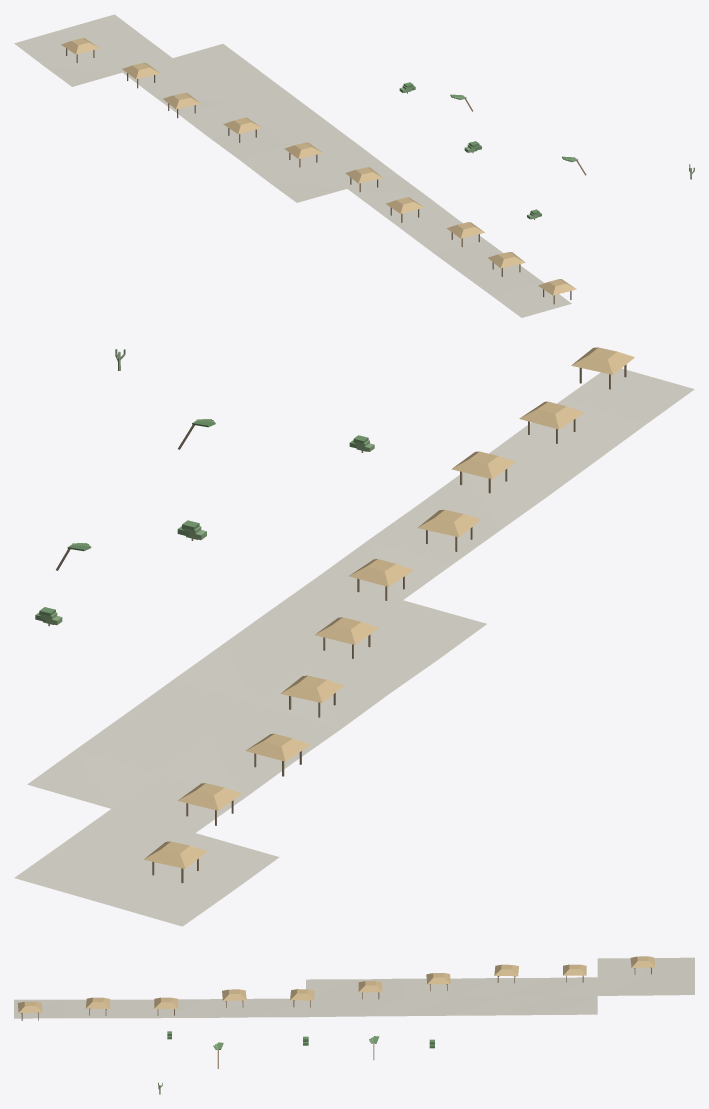
File: nw_arashi.glb
3 renders of one model, top to bottom at view 1: azimuth 30°, elevation 25°; view 2: azimuth 150°, elevation 25°; view 3: azimuth 270°, elevation 25°, orthographic. The views are drawn at different scales.
Visible parts, largest first — view 1: nw_arashi_lod0; view 2: nw_arashi_lod0; view 3: nw_arashi_lod0.
Boxes of the visible parts, left/top/right/bottom form: nw_arashi_lod0: left=14, top=14, right=694, bottom=317; nw_arashi_lod0: left=14, top=347, right=694, bottom=926; nw_arashi_lod0: left=14, top=956, right=694, bottom=1094.
Size of what is drawn, in the model's own units: 71.6 by 5.73 by 140.
